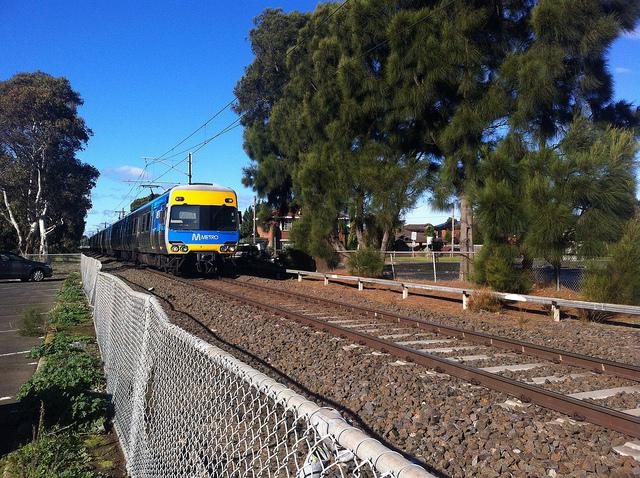Train: (86, 184, 238, 275)
